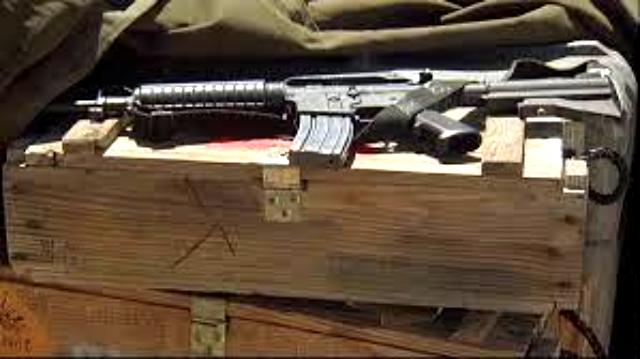rifle: (63, 68, 625, 174)
